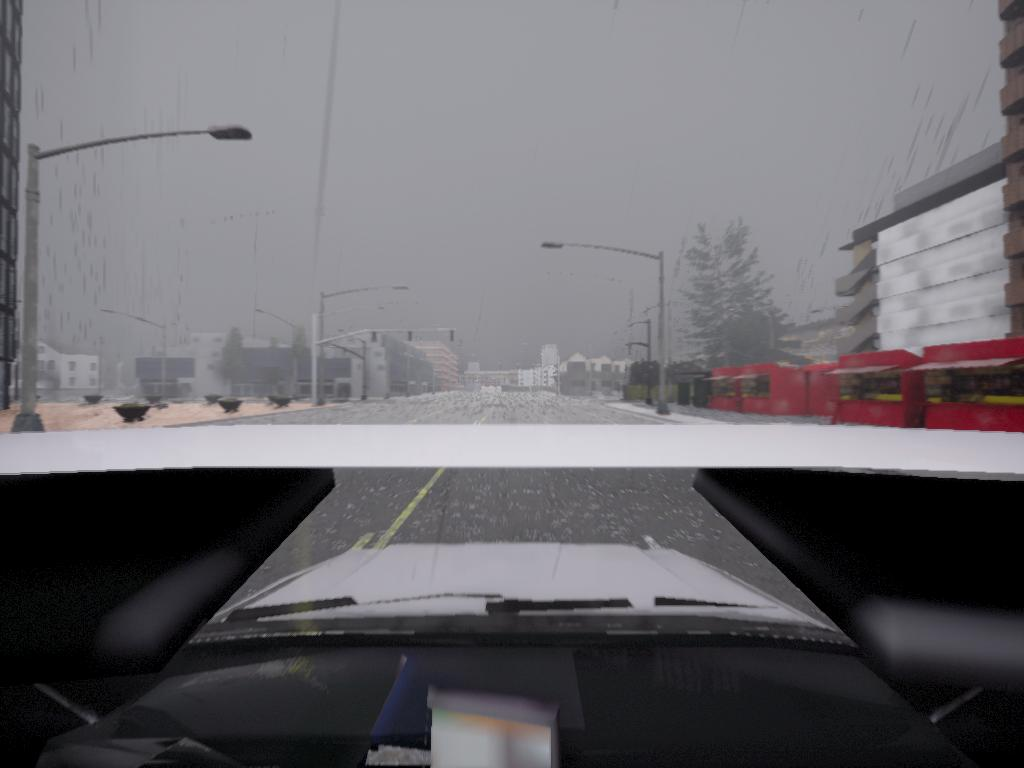traffic_light: (373, 333, 378, 344), (451, 332, 455, 344), (409, 333, 413, 343), (500, 363, 503, 370), (533, 364, 535, 372), (519, 365, 521, 371)
